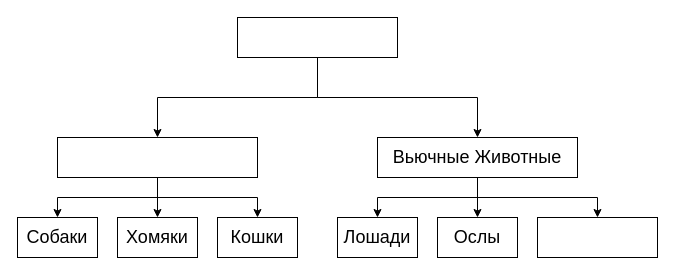
This 675x275 diagram has some shape labels left out. The box of each missing label's shape, as (x1, y1, x2, y2) in pixels:
Верблюды: (536, 216, 658, 258)
Домашние Животные: (56, 136, 258, 178)
Друзья Человека: (236, 16, 398, 58)
